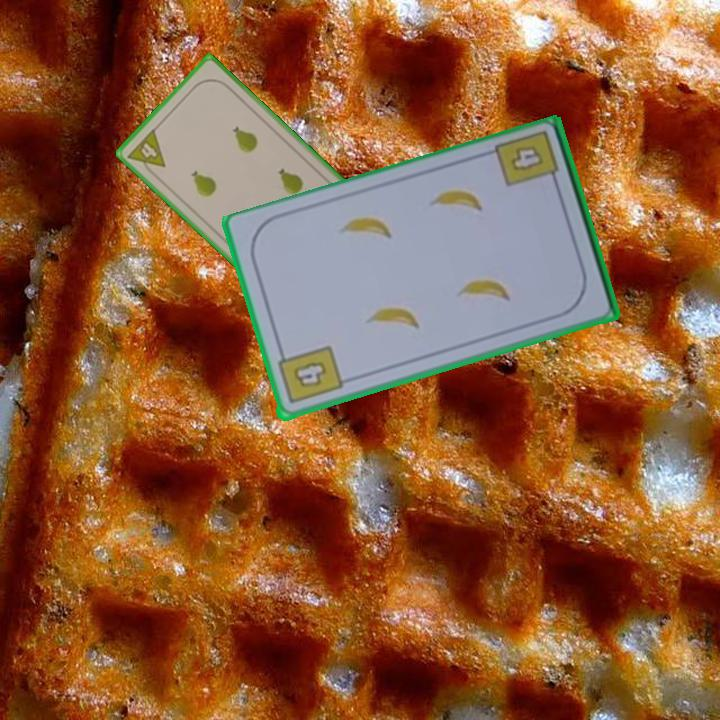4b: (273, 343, 345, 408), (507, 142, 543, 175)
4p: (123, 125, 168, 180)
